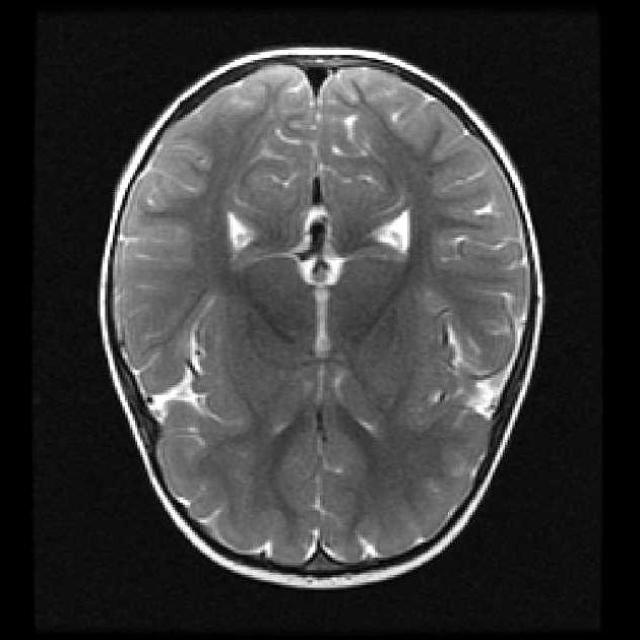no-tumor: (178, 124, 442, 472)
